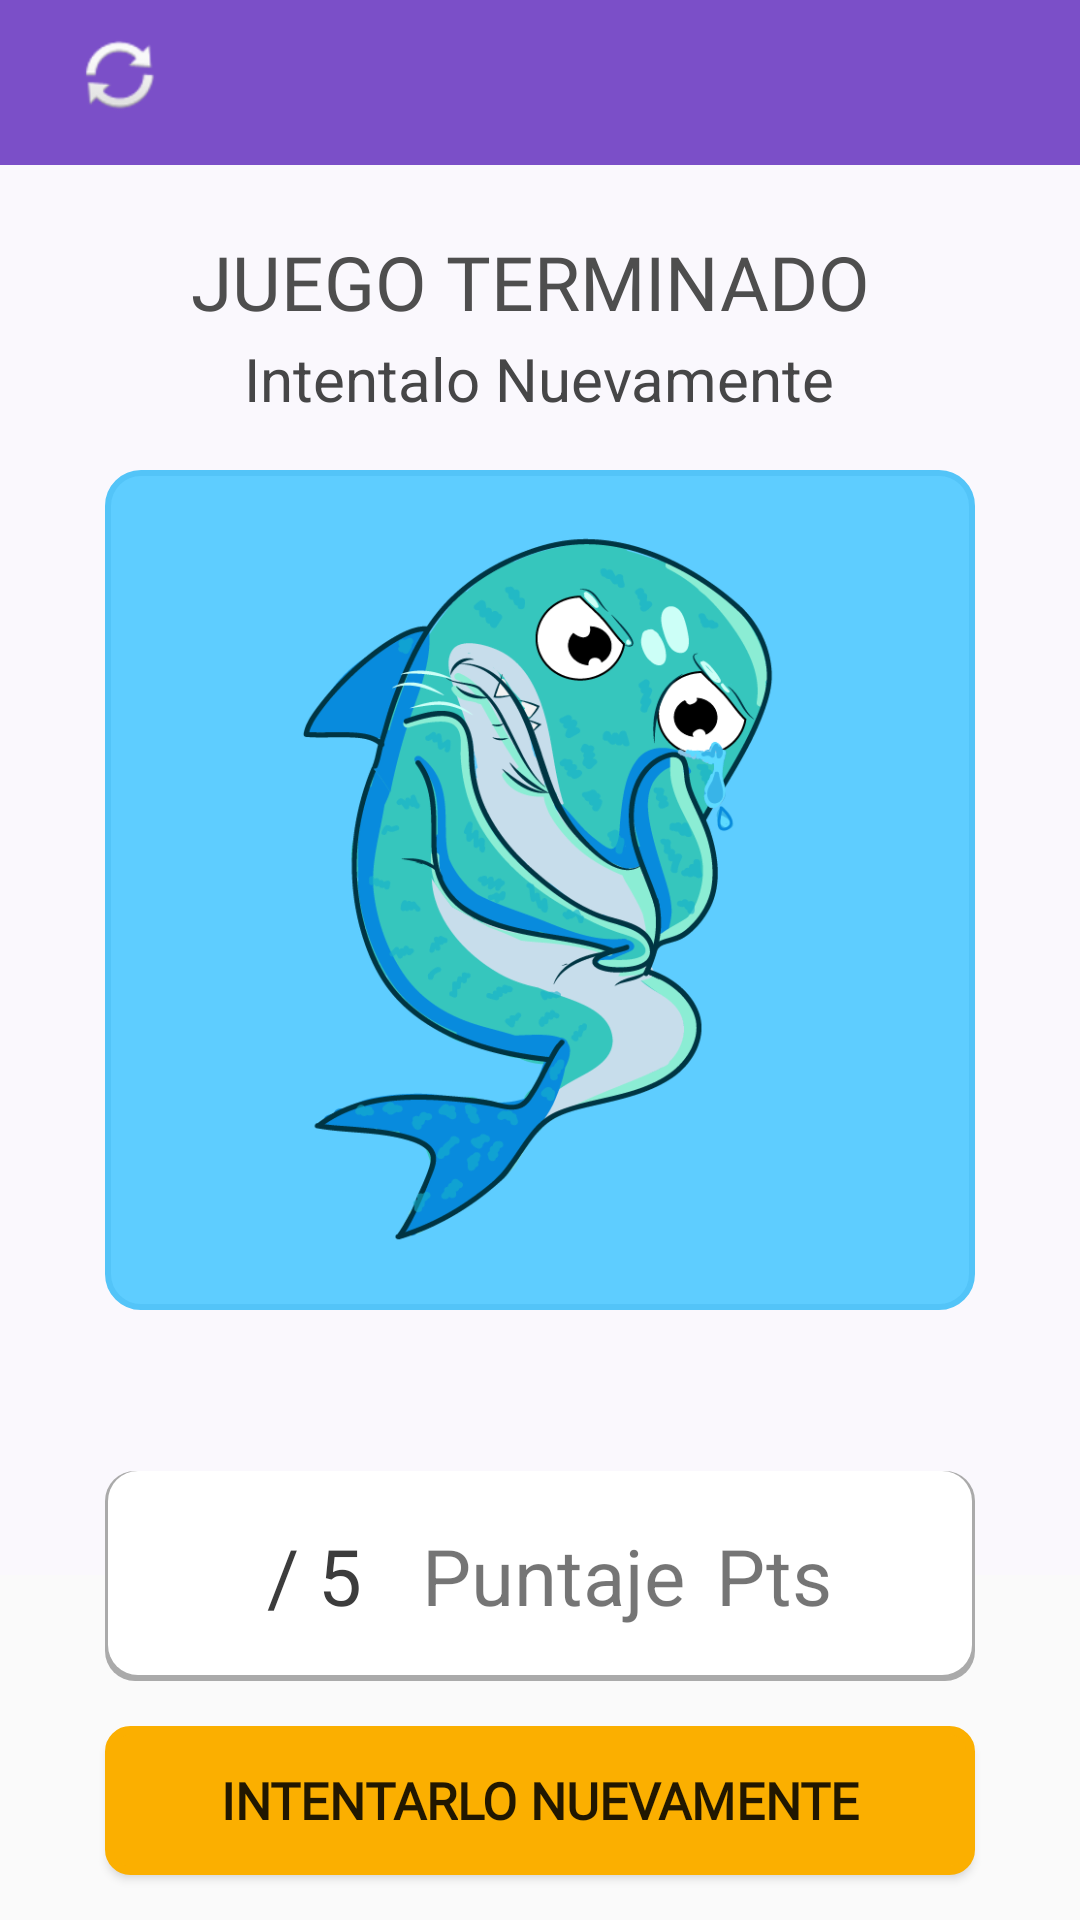

Where icons sit on this 1080×1920 app screen, as [x1,y1,x2,y2]:
popup sync: [86,41,154,108]
